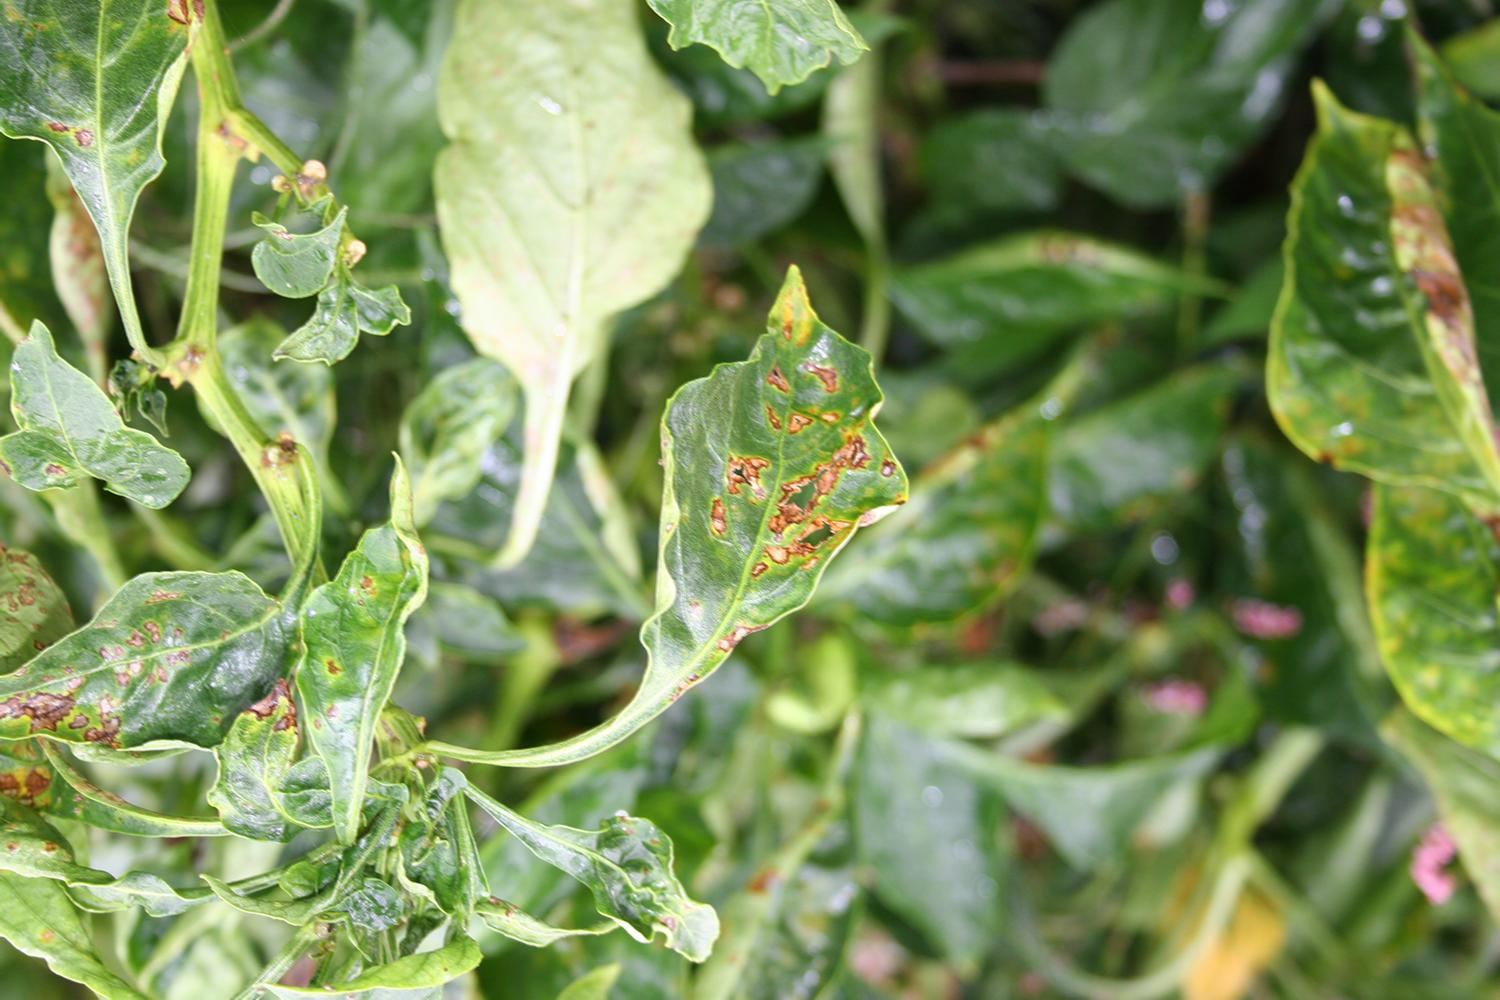Tomato leaf bacterial spot: (588, 260, 931, 733), (1247, 64, 1487, 525), (17, 567, 271, 796), (279, 511, 459, 820)
